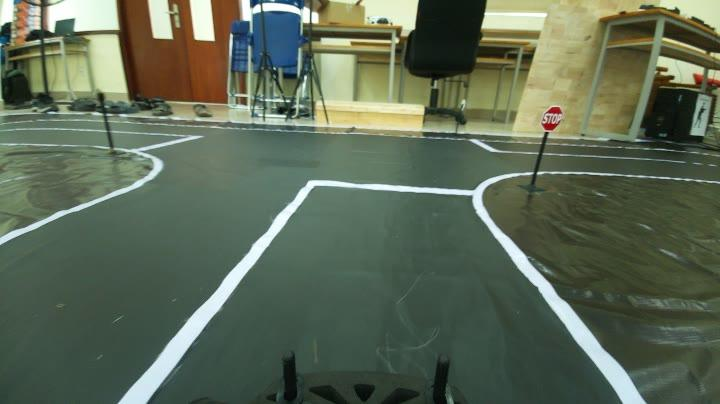stop: (535, 102, 566, 132)
